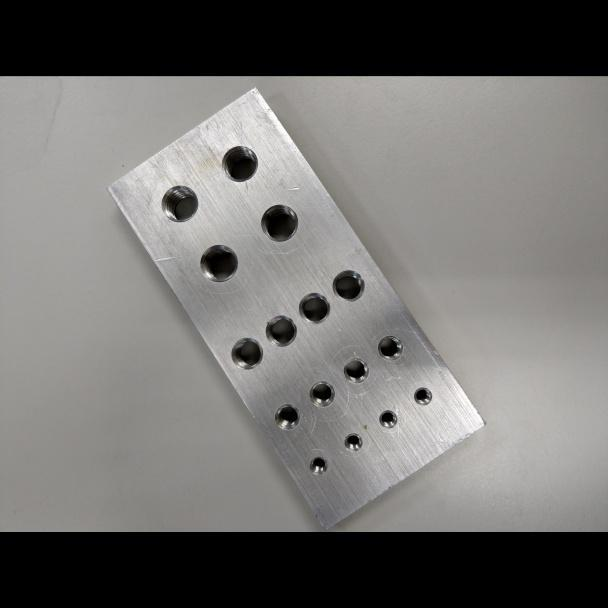hole: (199, 242, 239, 283), (259, 202, 299, 242), (160, 184, 199, 223), (220, 144, 258, 183), (331, 268, 365, 302), (230, 336, 263, 370), (297, 291, 331, 324), (264, 314, 297, 347), (274, 402, 301, 430), (342, 357, 370, 384), (308, 380, 335, 407), (377, 334, 404, 361), (378, 408, 398, 429), (343, 432, 363, 452), (412, 386, 432, 406), (309, 455, 328, 475)
